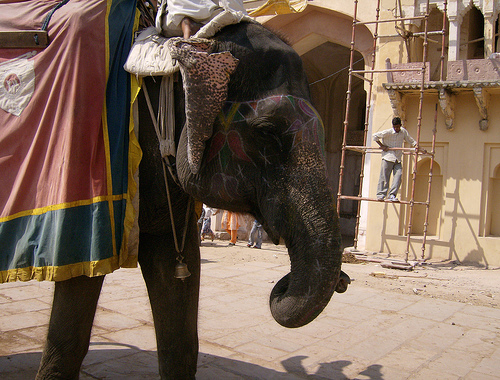elephant: (1, 1, 361, 380)
